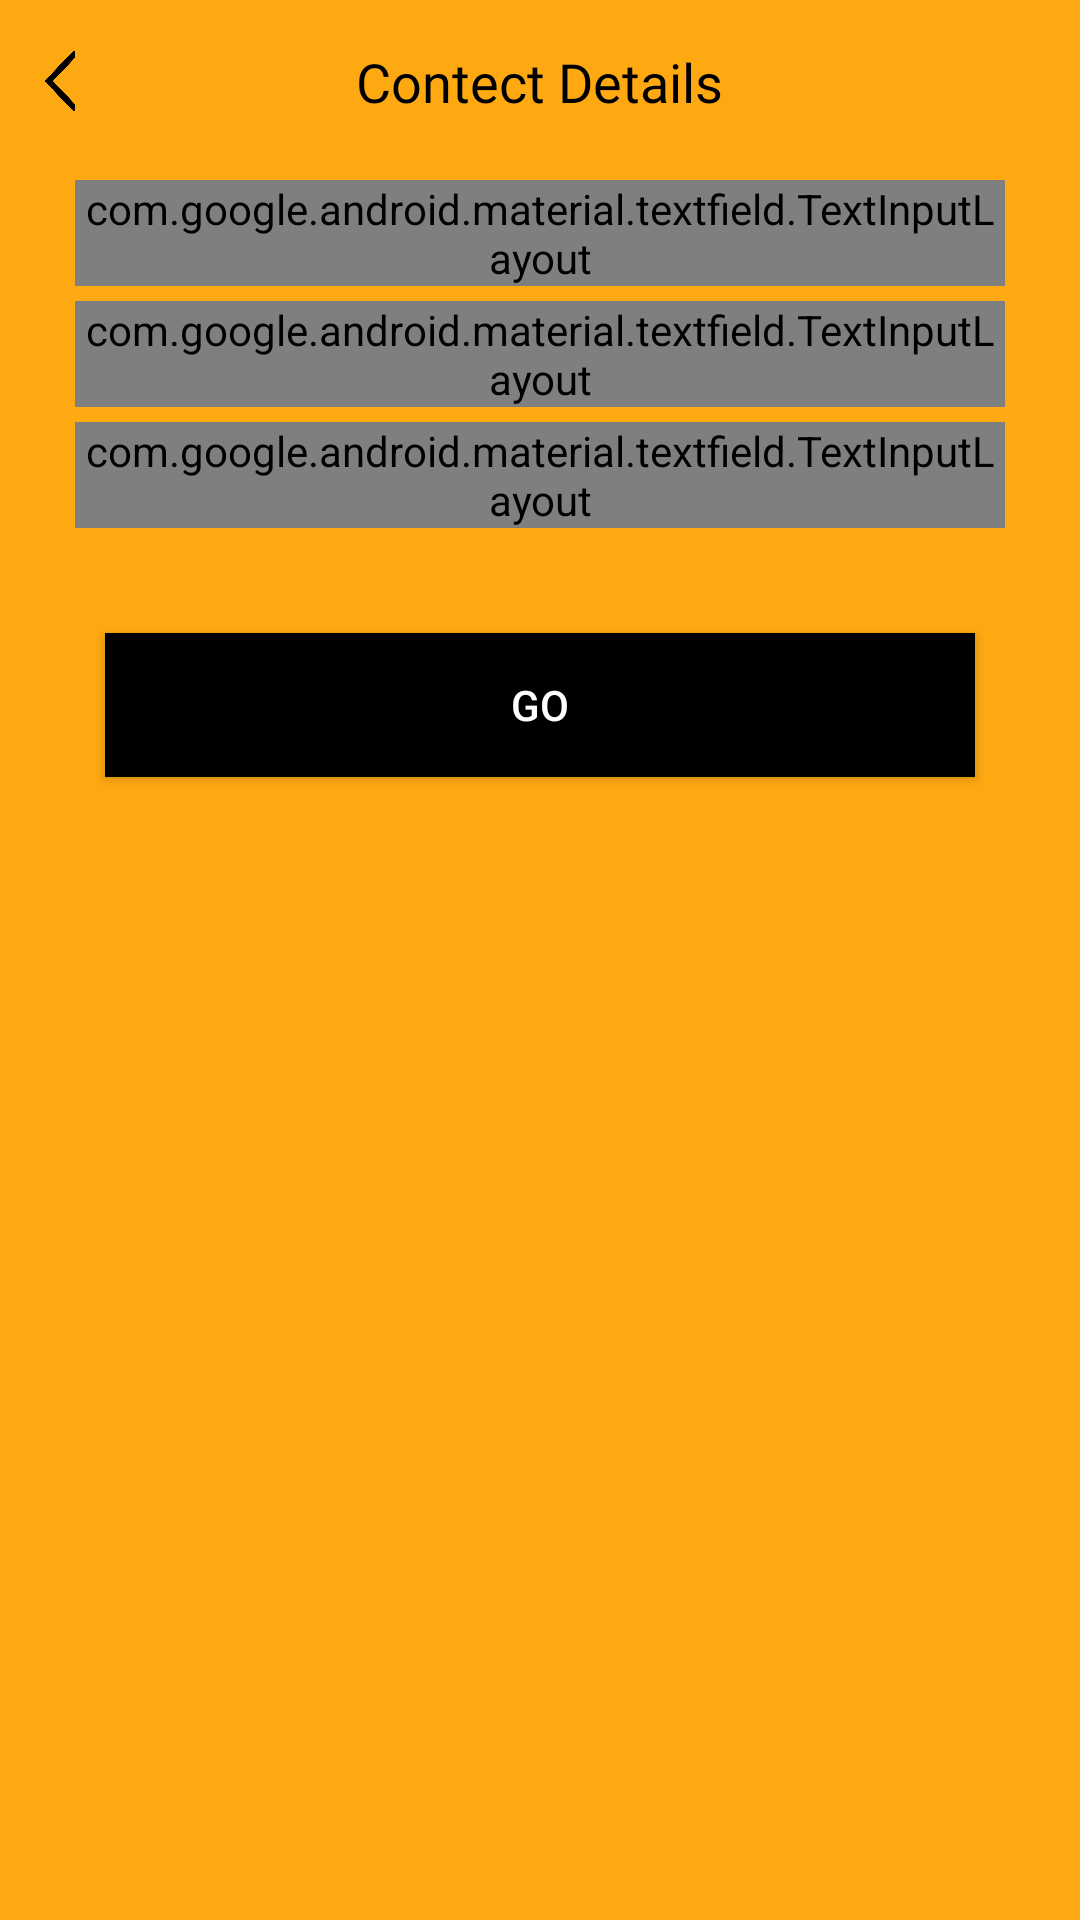

Named icons in this screenshot (1080 x 1920) and their bounding boxes, (x1, y1, x2, y2):
left: (45, 51, 75, 111)
